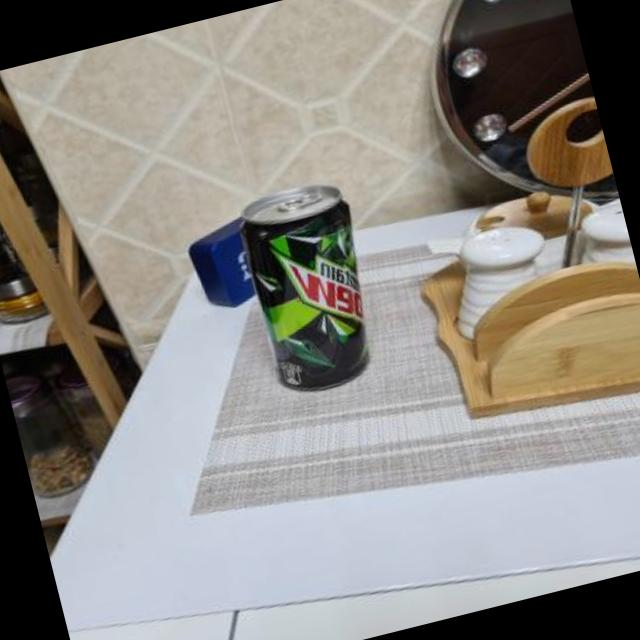metal: (240, 184, 369, 388)
